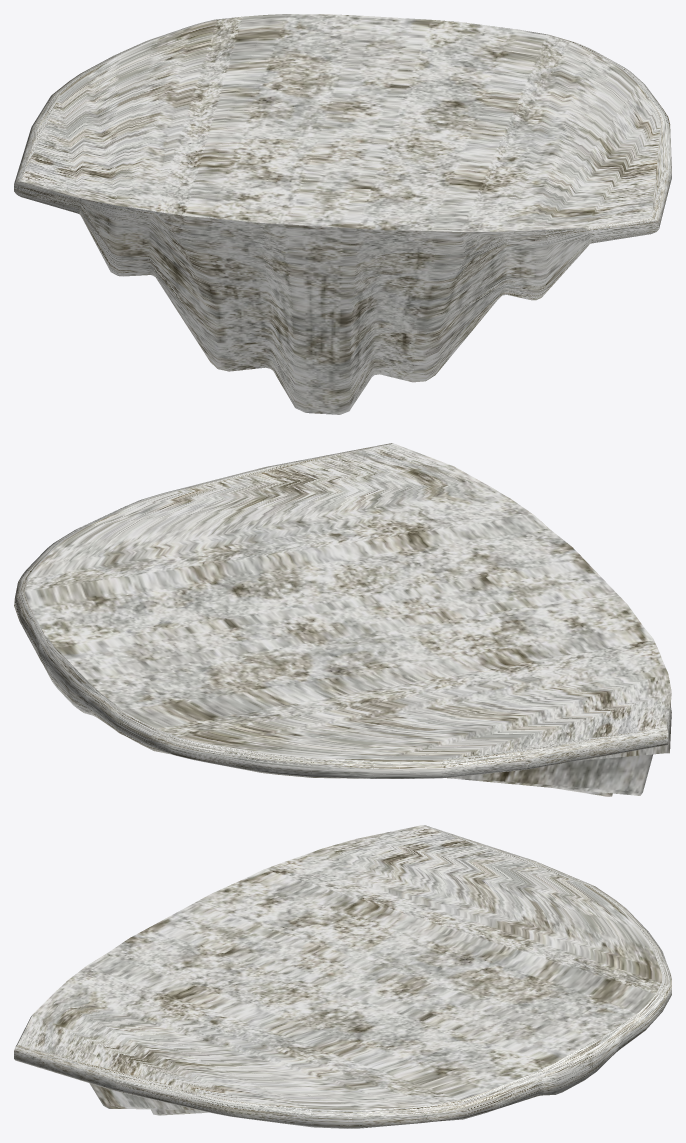
The model's file is wallMushroom.fbx.
3 views of the same model, one above another, from view 1: azimuth 30°, elevation 25°; view 2: azimuth 150°, elevation 25°; view 3: azimuth 270°, elevation 25° (orthographic). The views are drawn at different scales.
Parts seen in each view (by area): view 1: mushroom; view 2: mushroom; view 3: mushroom.
Boxes of the visible parts, x1,y1,x2,y2 form: mushroom: (14,14,671,414); mushroom: (14,443,671,796); mushroom: (14,825,671,1128).
Bounding box in the file's own units: 38.67 × 11.97 × 36.88.
Materials: 1 (1 with a texture image).
